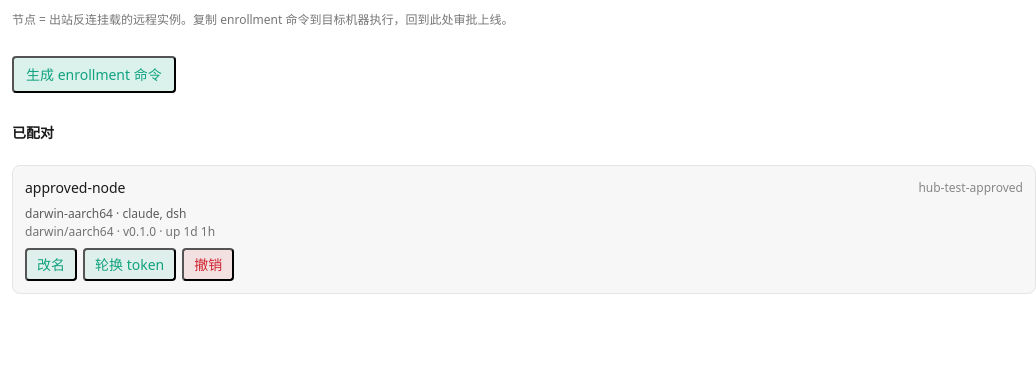
Test: NodesSection › rotate rollback shows rolled-back notice
Click the button with test id "rotate-hub-test-approved".
click(130, 264)  # box left=83, top=248, right=176, bottom=281
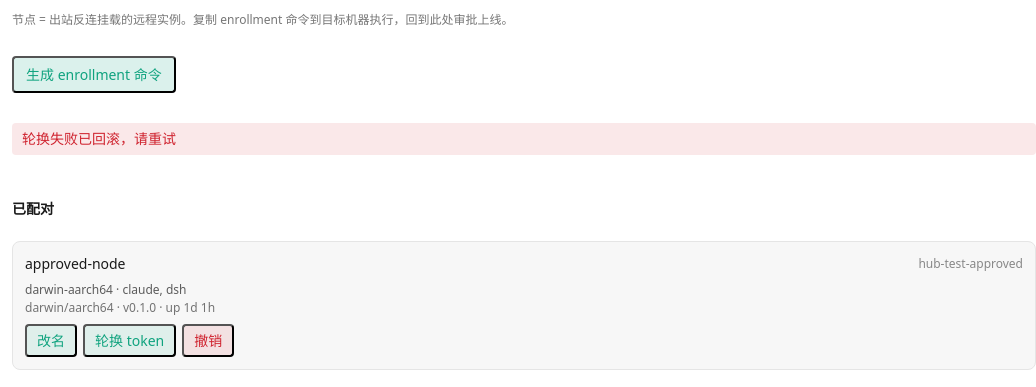
Now the message with test id "nodes-notice" reads "轮换失败已回滚，请重试", box left=22, top=129, right=176, bottom=148
